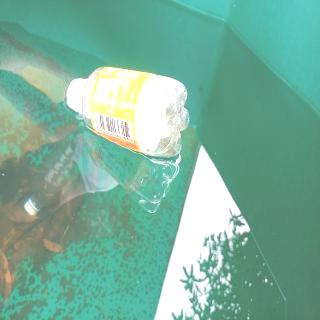bottle: (66, 65, 190, 159)
